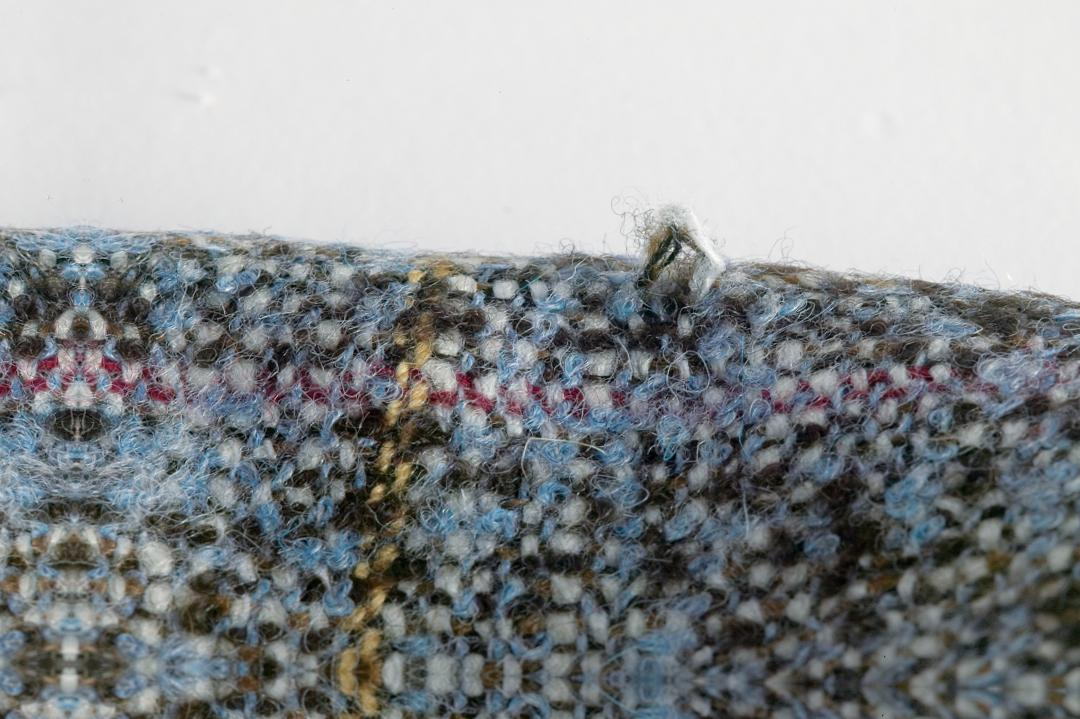snag: (617, 193, 745, 326)
